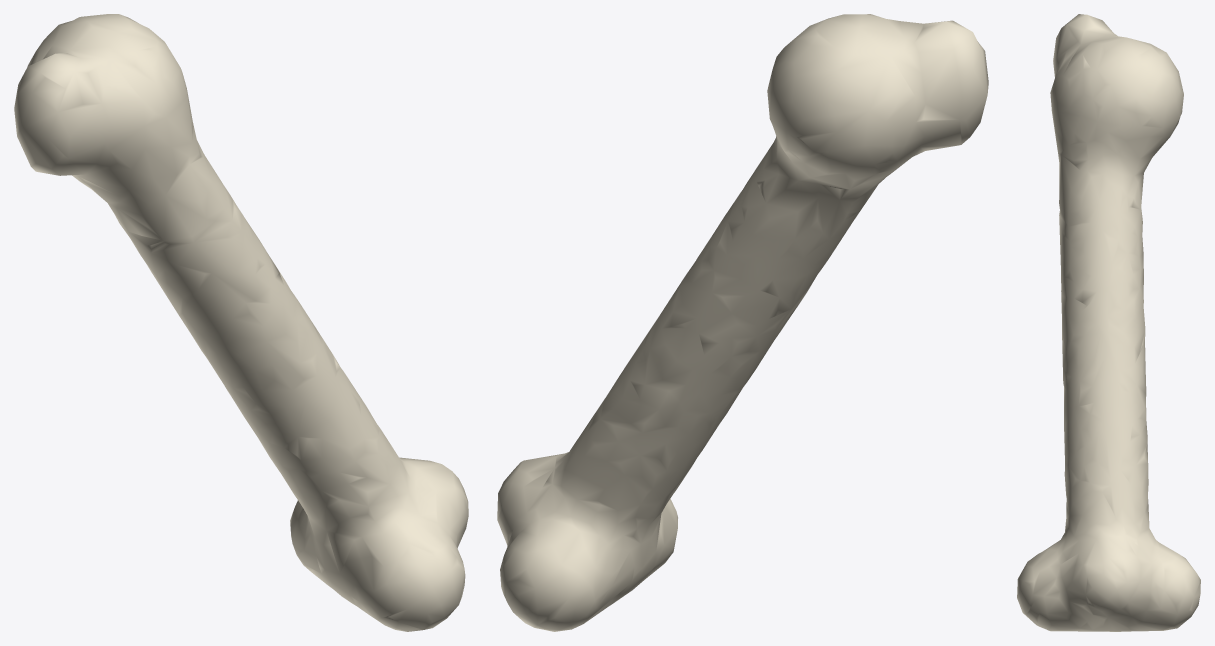
File: humerus_l.glb
The picture shows the model from 3 angles, left to right: view 1: azimuth 30°, elevation 25°; view 2: azimuth 150°, elevation 25°; view 3: azimuth 270°, elevation 25°; orthographic projection. The views are drawn at different scales.
Visible parts, largest first — view 1: geometry_0; view 2: geometry_0; view 3: geometry_0.
Boxes of the visible parts, box(x1,y1,x2,y2) form: geometry_0: box(14, 14, 468, 631); geometry_0: box(497, 14, 988, 631); geometry_0: box(1017, 14, 1200, 631).
Size of the model in its own units: 0.4918 by 0.6555 by 0.2238.
